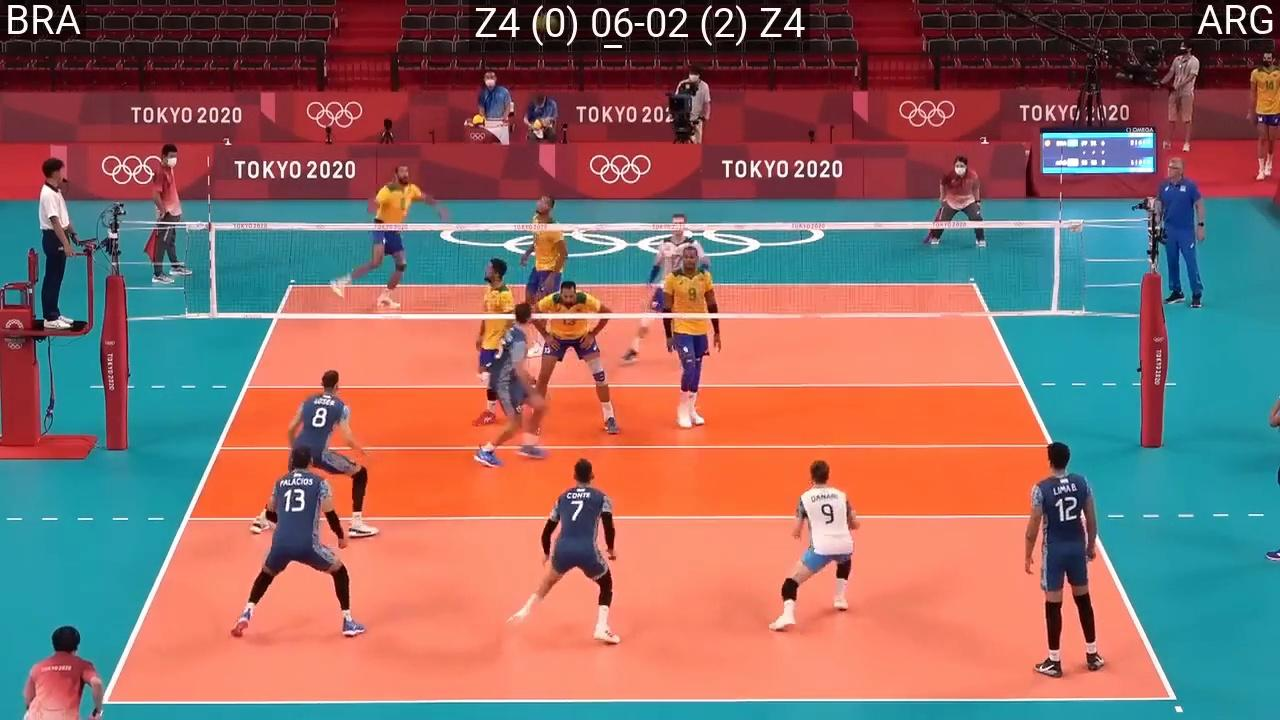ball: (472, 113, 485, 127)
